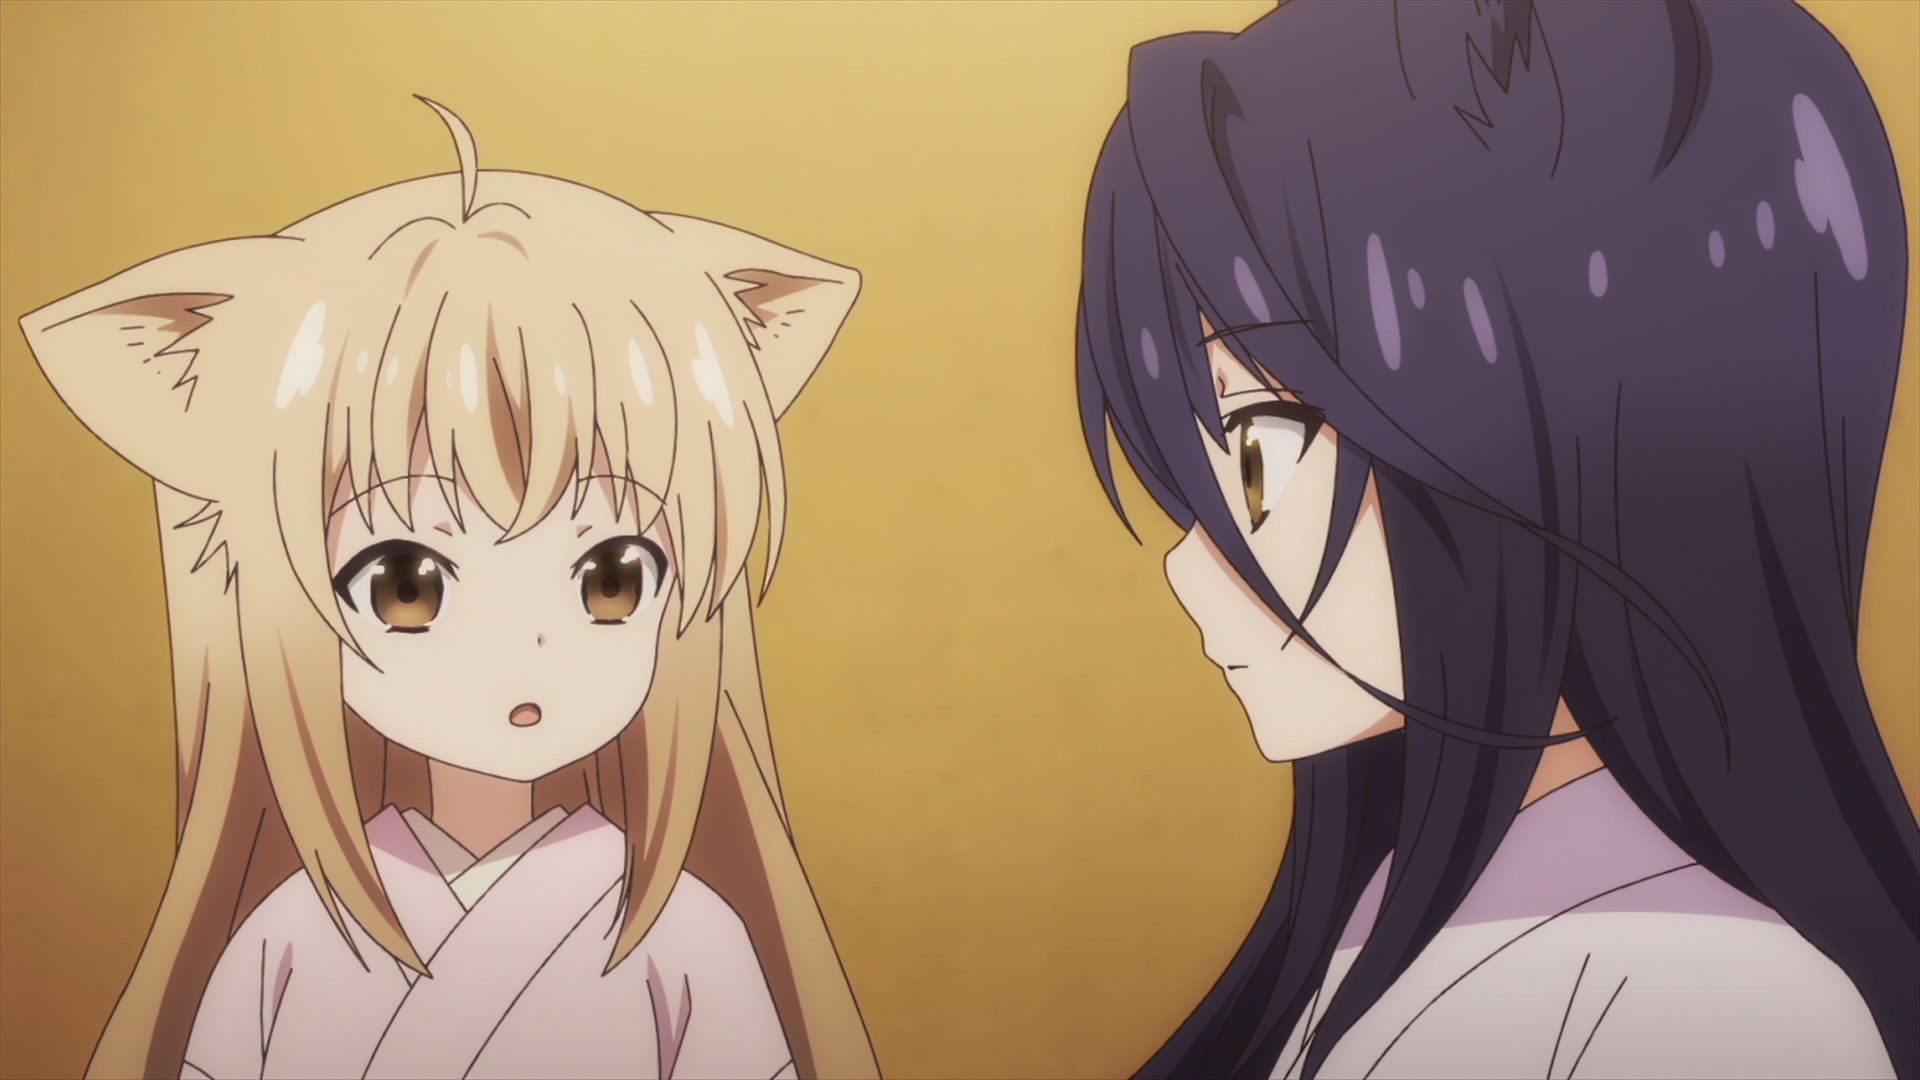柚: (20, 92, 881, 1080)
皋: (1076, 1, 1920, 1080)
